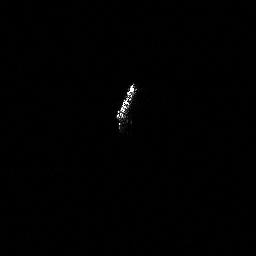ship: (113, 80, 139, 134)
